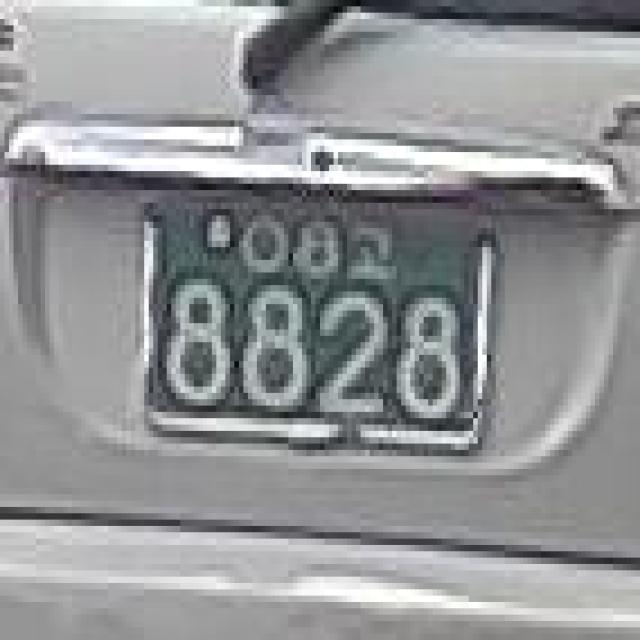illegal_plate: (134, 176, 503, 469)
